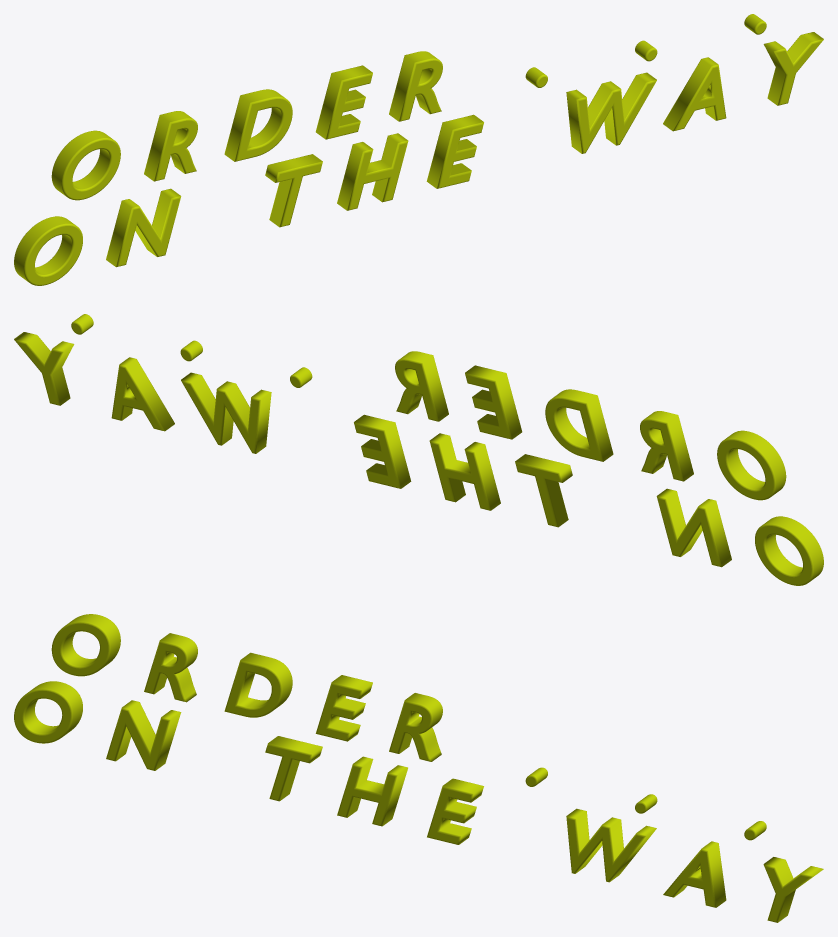
The model's file is levelStartText.fbx.
3 renders of one model, top to bottom at view 1: azimuth 30°, elevation 25°; view 2: azimuth 150°, elevation 25°; view 3: azimuth 330°, elevation 25°, orthographic.
Visible parts, largest first — view 1: Text; view 2: Text; view 3: Text.
Part boxes in pixels (x1,y1,x2,y2): Text: [14, 14, 823, 285]; Text: [14, 314, 823, 585]; Text: [14, 614, 823, 922].
Bounding box in the file's own units: 1095 × 174 × 27.4.
